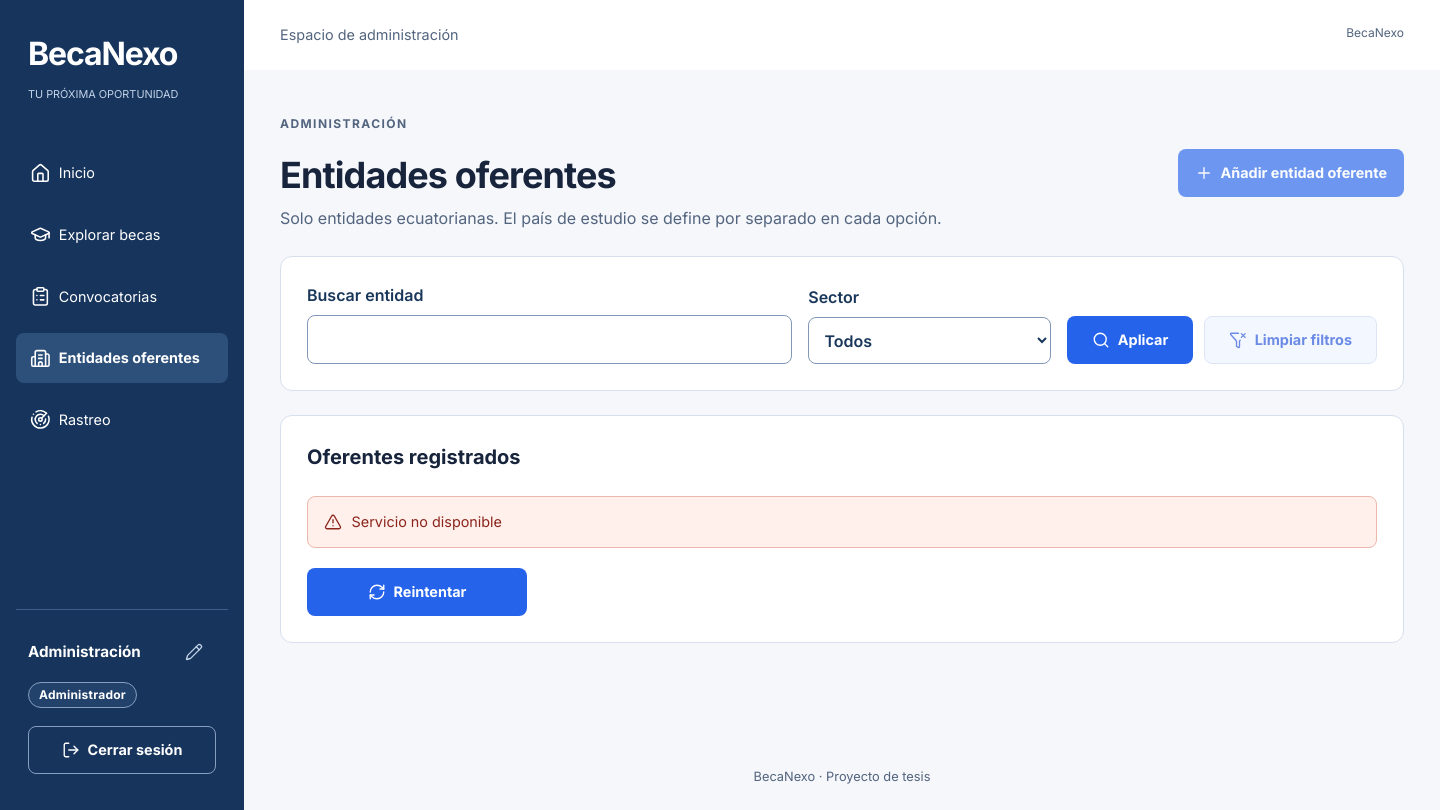
Test case: error de carga con «Reintentar»
Expected: the text "Servicio no disponible" is shown, [352,511,502,533]
Click the button "Reintentar": (417, 592) [307,568,527,616]
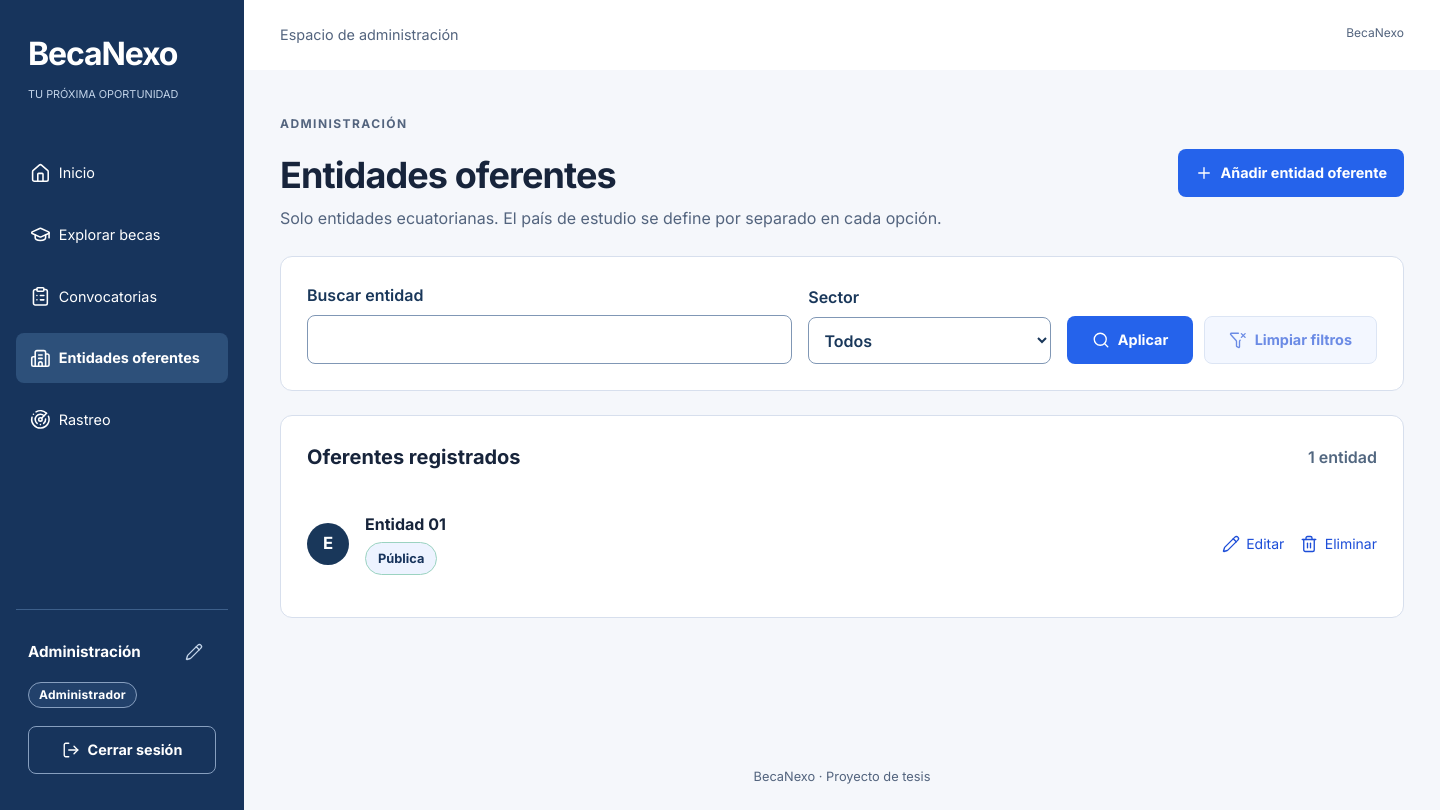
Expected: the text "Entidad 01" is shown, [365,514,446,534]
